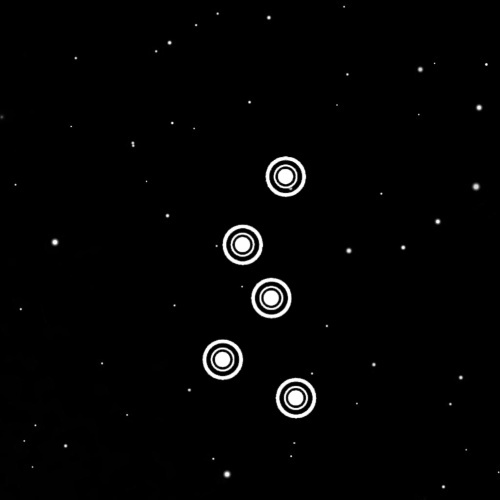cassiopeia: (190, 143, 329, 428)
